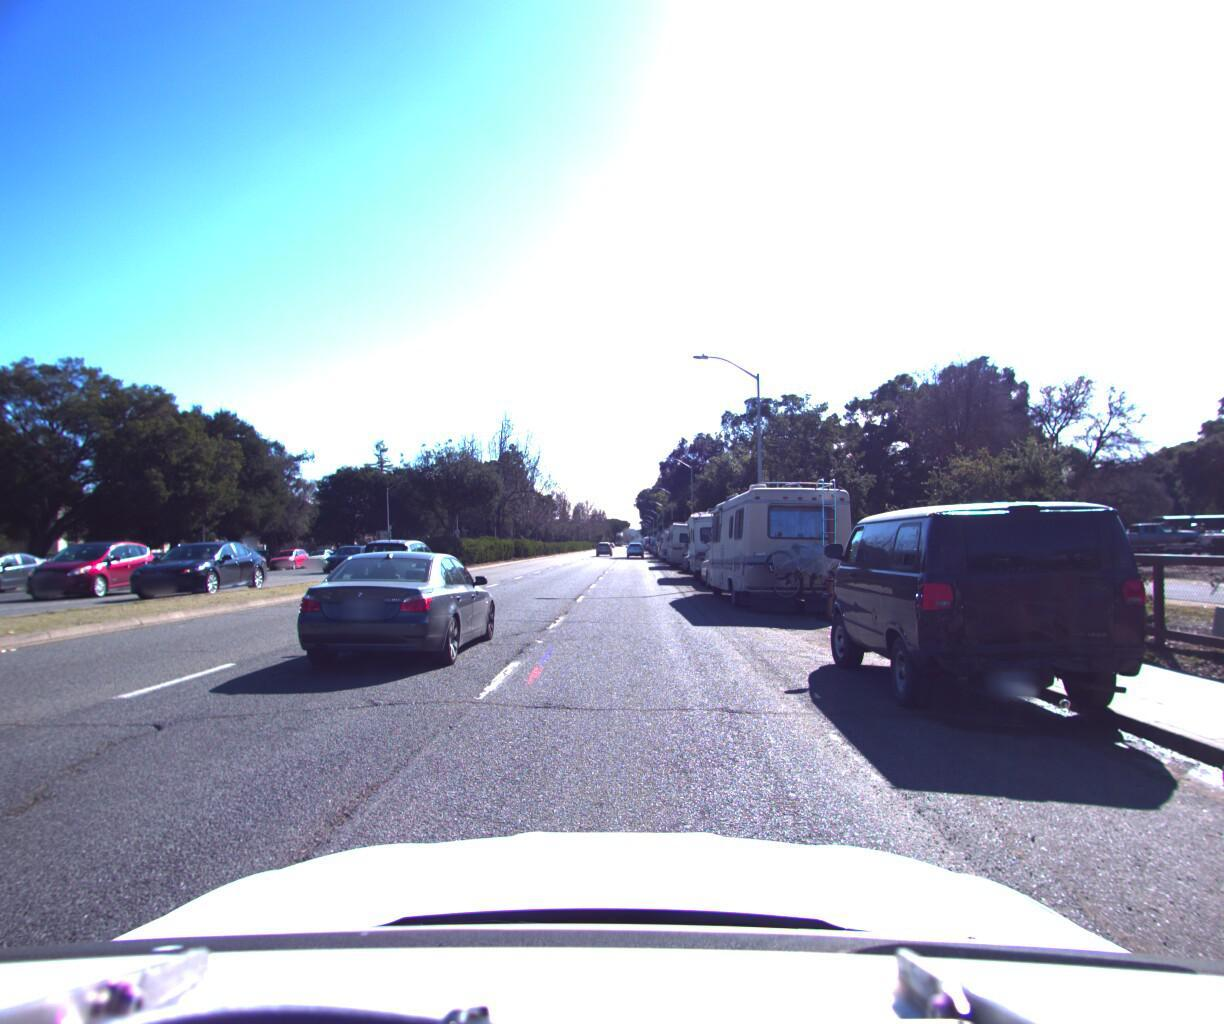car: (797, 486, 1194, 739), (283, 541, 503, 670), (110, 518, 274, 599), (12, 534, 172, 600), (349, 525, 446, 592), (692, 539, 767, 588), (319, 542, 382, 570), (676, 539, 720, 569), (262, 542, 314, 566), (295, 543, 341, 563), (628, 536, 645, 551)
other_vehicle: (691, 469, 871, 612), (679, 495, 760, 582), (662, 511, 713, 564), (655, 522, 689, 557)
